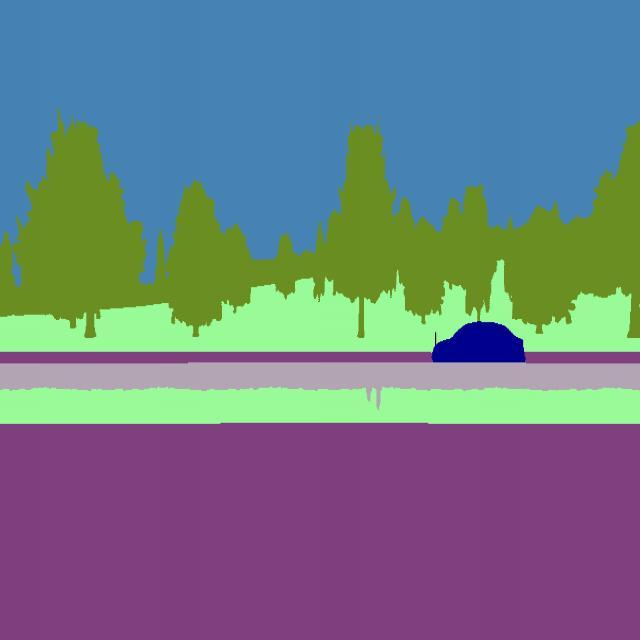safe: (431, 310, 532, 376)
